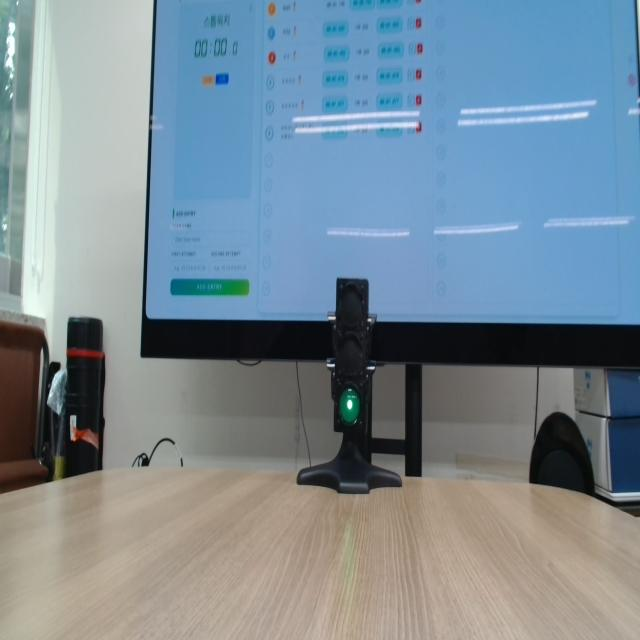green_light: (339, 387, 360, 425)
